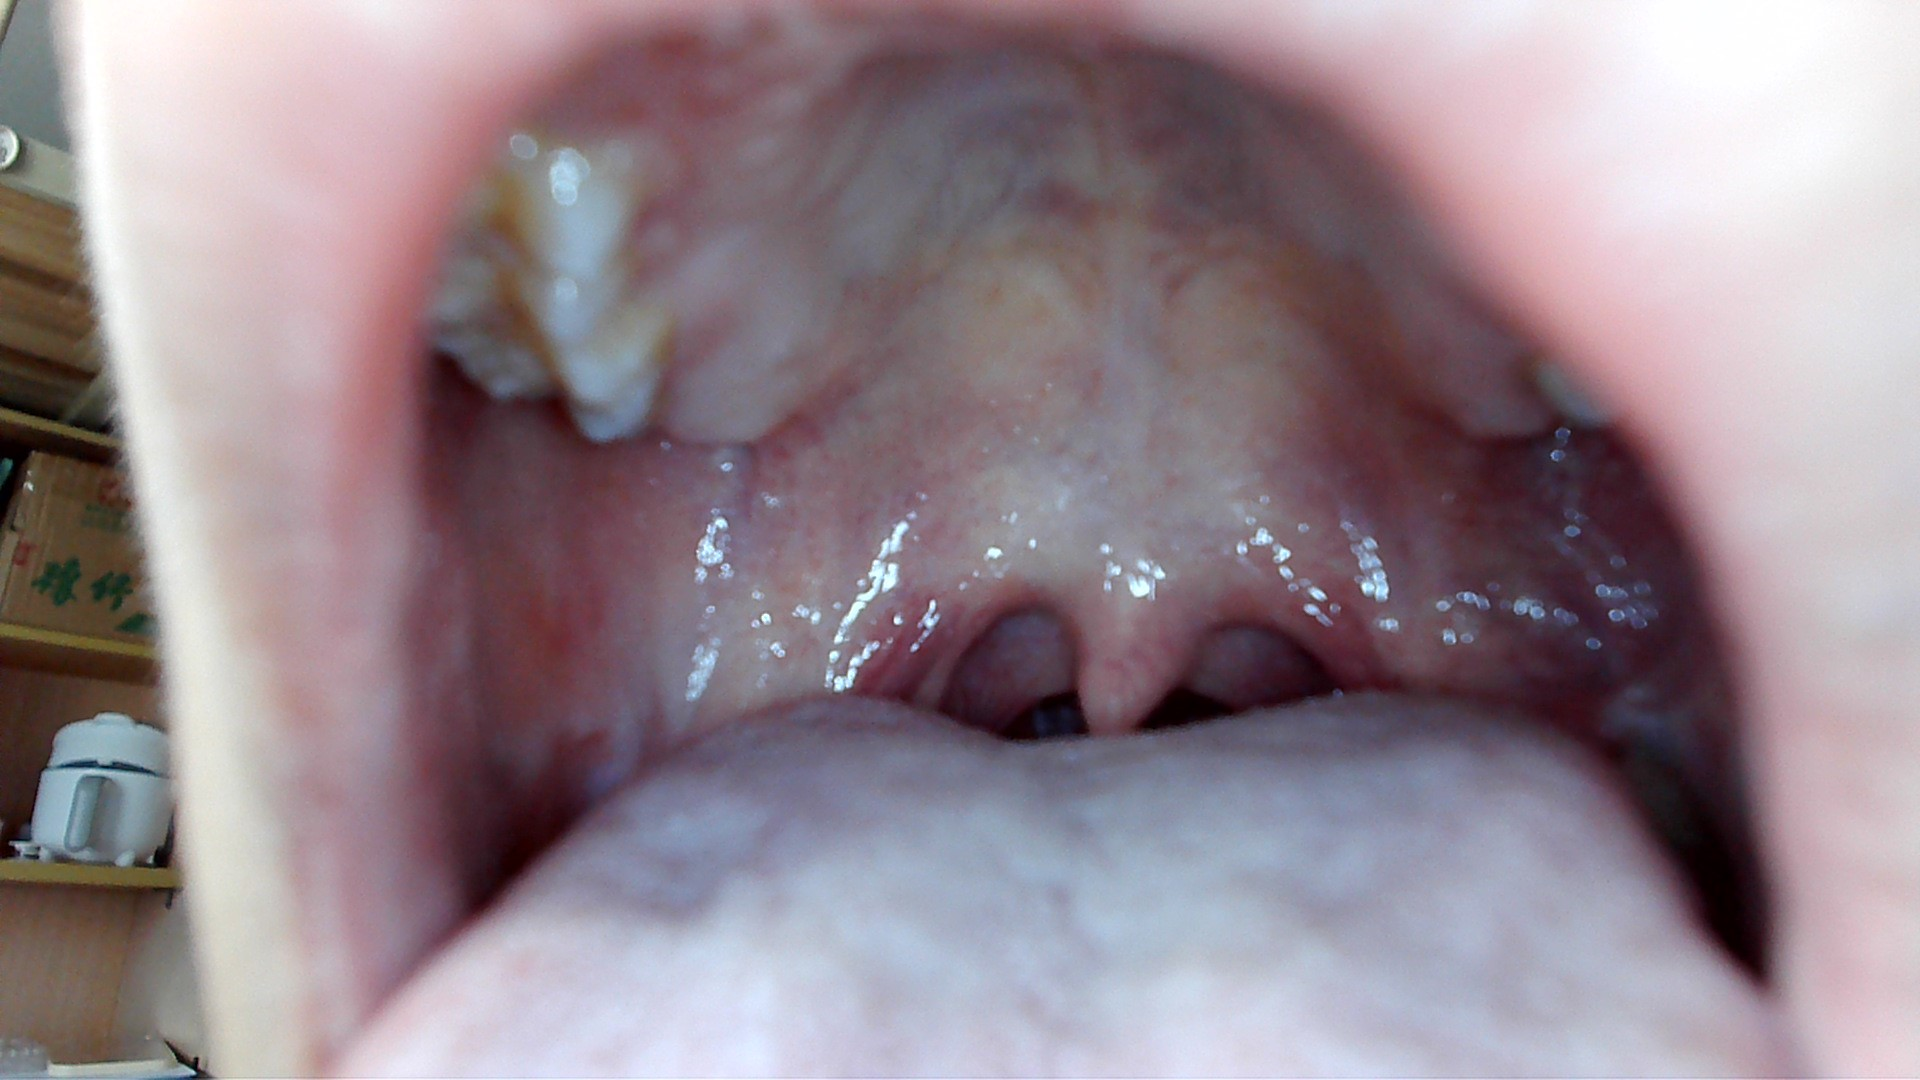throat: (894, 568, 1002, 708), (1254, 580, 1350, 696)
